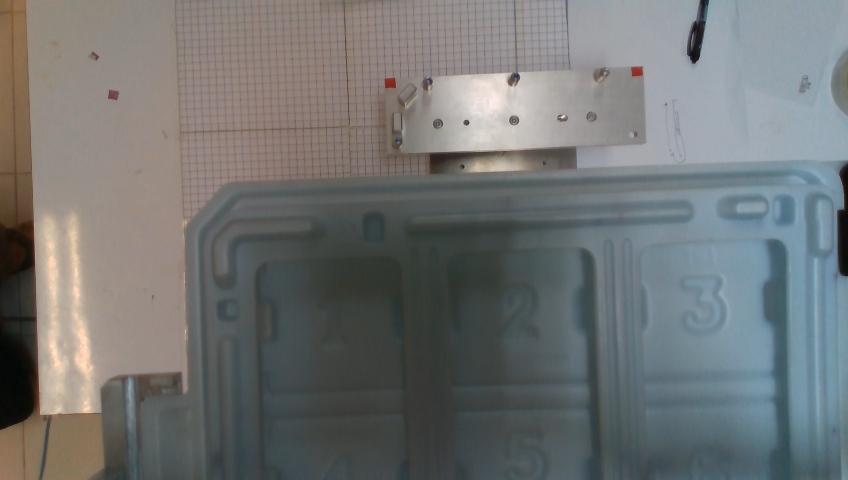red: (631, 66, 643, 77), (385, 78, 396, 88)
